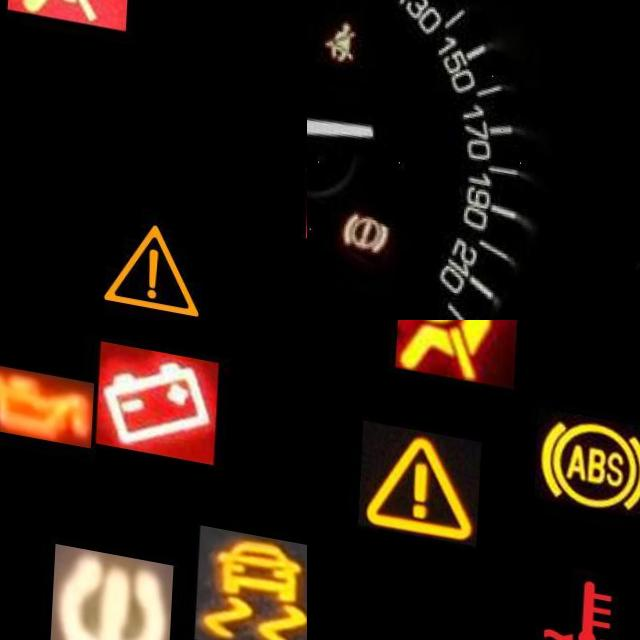Central Warning lamp: (96, 192, 219, 320), (362, 415, 484, 538)
Engine cooling system: (531, 539, 640, 640)
